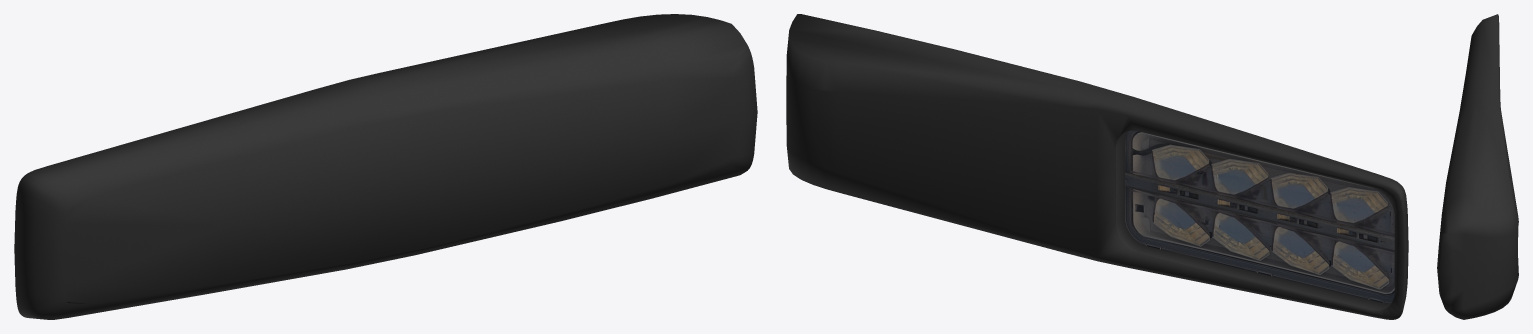
File: SL_11_Mini.obj
3 views of the same model, side by side, from view 1: azimuth 30°, elevation 25°; view 2: azimuth 150°, elevation 25°; view 3: azimuth 270°, elevation 25° (orthographic). The views are drawn at different scales.
Visible parts, largest first — view 1: Siteco_SL_11_mini; view 2: Siteco_SL_11_mini; view 3: Siteco_SL_11_mini.
Boxes of the visible parts, x1,y1,x2,y2 form: Siteco_SL_11_mini: (14, 14, 757, 319); Siteco_SL_11_mini: (786, 14, 1408, 319); Siteco_SL_11_mini: (1437, 14, 1518, 319).
Bounding box in the file's own units: 0.7338 × 0.1744 × 0.1168.
3 materials, 2 textured.
